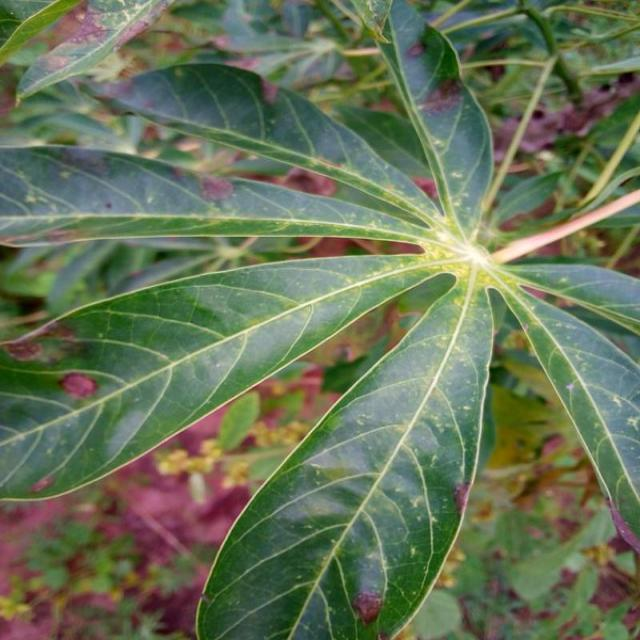cassava leaf: (2, 0, 640, 638), (195, 272, 498, 638)
